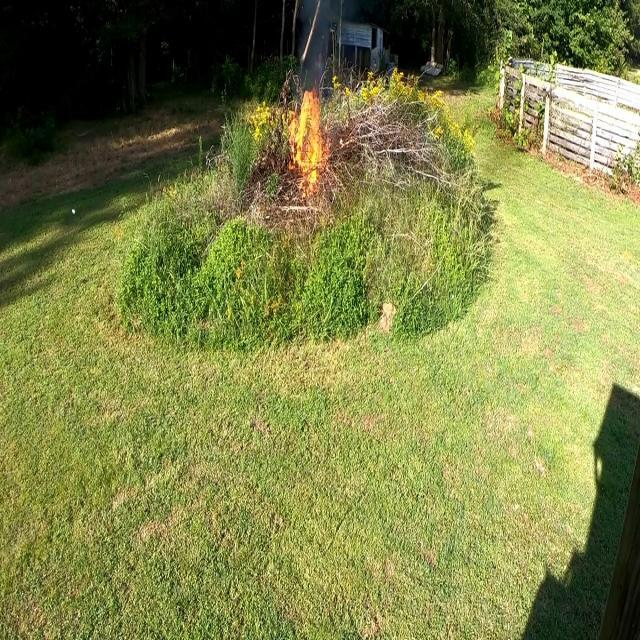Fire: (288, 84, 328, 190)
